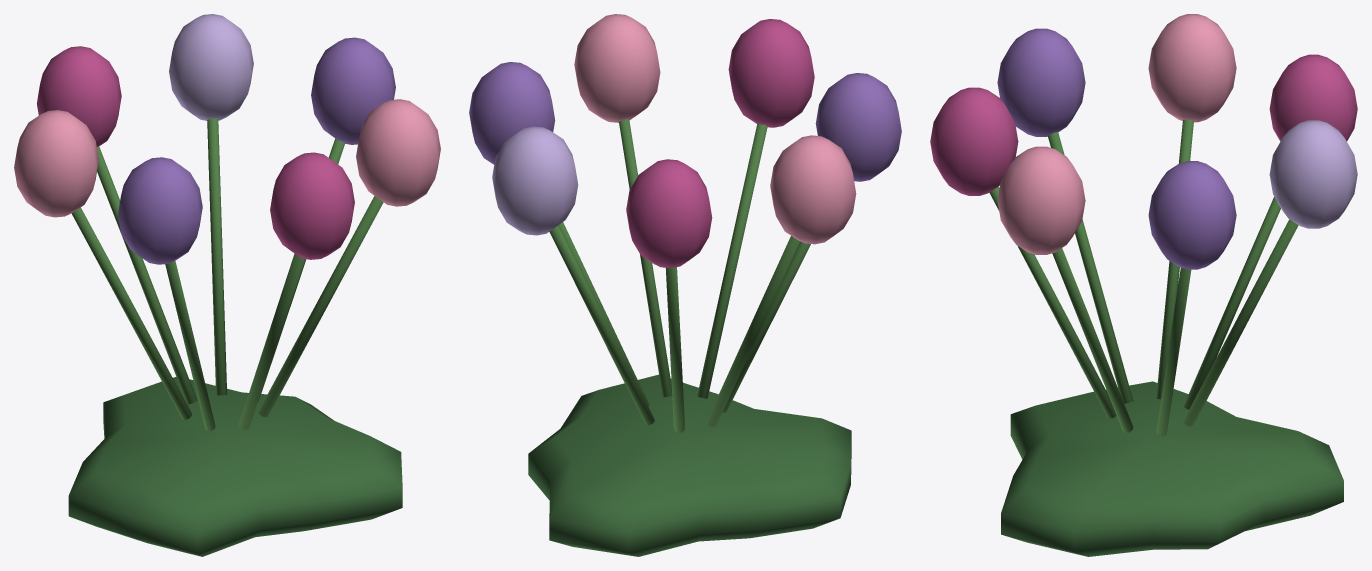
File: shrub_04.glb
3 renders of one model, left to right at view 1: azimuth 30°, elevation 25°; view 2: azimuth 150°, elevation 25°; view 3: azimuth 270°, elevation 25°, orthographic.
Visible parts, largest first — view 1: Tint, Urn bloom, Urn bloom.005, Urn bloom.001, Urn bloom.006, Urn bloom.003, Urn bloom.002, Urn bloom.004, Flower stem.003, Flower stem.001, Flower stem.005, Flower stem.004 (+3 smaller); view 2: Tint, Urn bloom.004, Urn bloom.005, Urn bloom.003, Urn bloom, Urn bloom.001, Urn bloom.006, Urn bloom.002, Flower stem, Flower stem.003, Flower stem.005, Flower stem.001 (+3 smaller); view 3: Tint, Urn bloom.003, Urn bloom.001, Urn bloom.002, Urn bloom.005, Urn bloom, Urn bloom.006, Urn bloom.004, Flower stem.003, Flower stem.004, Flower stem.006, Flower stem.001 (+3 smaller).
Part boxes in pixels (x1,y1,x2,y2): Tint: [68, 377, 402, 556]; Urn bloom: [270, 152, 354, 259]; Urn bloom.005: [14, 110, 98, 217]; Urn bloom.001: [356, 99, 440, 206]; Urn bloom.006: [118, 157, 202, 264]; Urn bloom.003: [169, 14, 253, 120]; Urn bloom.002: [311, 37, 395, 144]; Urn bloom.004: [37, 46, 121, 146]; Flower stem.003: [207, 118, 227, 395]; Flower stem.001: [258, 196, 383, 417]; Flower stem.005: [71, 207, 191, 419]; Flower stem.004: [97, 146, 197, 404]; Tint: [528, 374, 851, 556]; Urn bloom.004: [626, 159, 712, 268]; Urn bloom.005: [770, 135, 856, 244]; Urn bloom.003: [492, 126, 578, 235]; Urn bloom: [728, 19, 814, 127]; Urn bloom.001: [574, 14, 660, 122]; Urn bloom.006: [815, 73, 901, 181]; Urn bloom.002: [469, 62, 555, 164]; Flower stem: [697, 123, 767, 398]; Flower stem.003: [549, 226, 654, 425]; Flower stem.005: [706, 236, 800, 427]; Flower stem.001: [619, 119, 672, 397]; Tint: [1001, 381, 1343, 556]; Urn bloom.003: [1269, 120, 1357, 228]; Urn bloom.001: [997, 146, 1085, 254]; Urn bloom.002: [1148, 161, 1236, 269]; Urn bloom.005: [1148, 14, 1236, 122]; Urn bloom: [930, 87, 1018, 195]; Urn bloom.006: [997, 28, 1085, 136]; Urn bloom.004: [1269, 54, 1357, 141]; Flower stem.003: [1183, 219, 1298, 426]; Flower stem.004: [1183, 197, 1280, 409]; Flower stem.006: [1048, 132, 1133, 403]; Flower stem.001: [1052, 248, 1133, 432].
Bounding box in the file's own units: 0.6859 × 0.73 × 0.6789.
